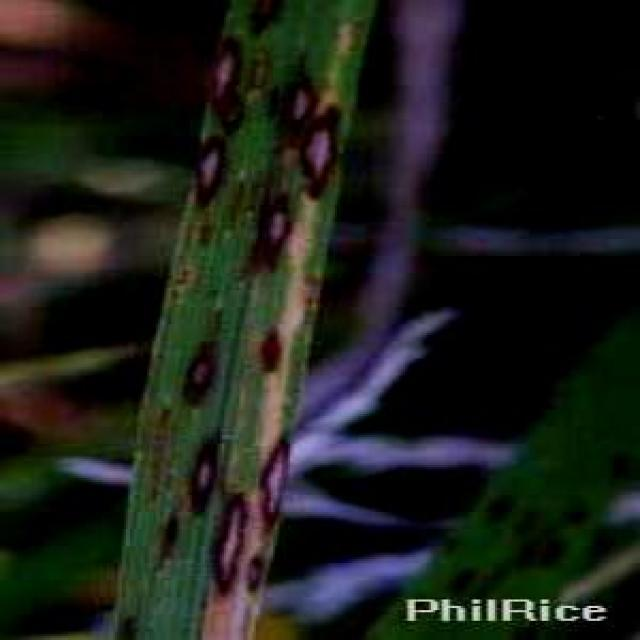Rice_Blast: (172, 126, 245, 220), (170, 305, 230, 418), (156, 431, 234, 512), (248, 420, 308, 521), (243, 188, 310, 278), (202, 484, 250, 606), (200, 28, 246, 126), (296, 98, 340, 192), (264, 60, 318, 124)
